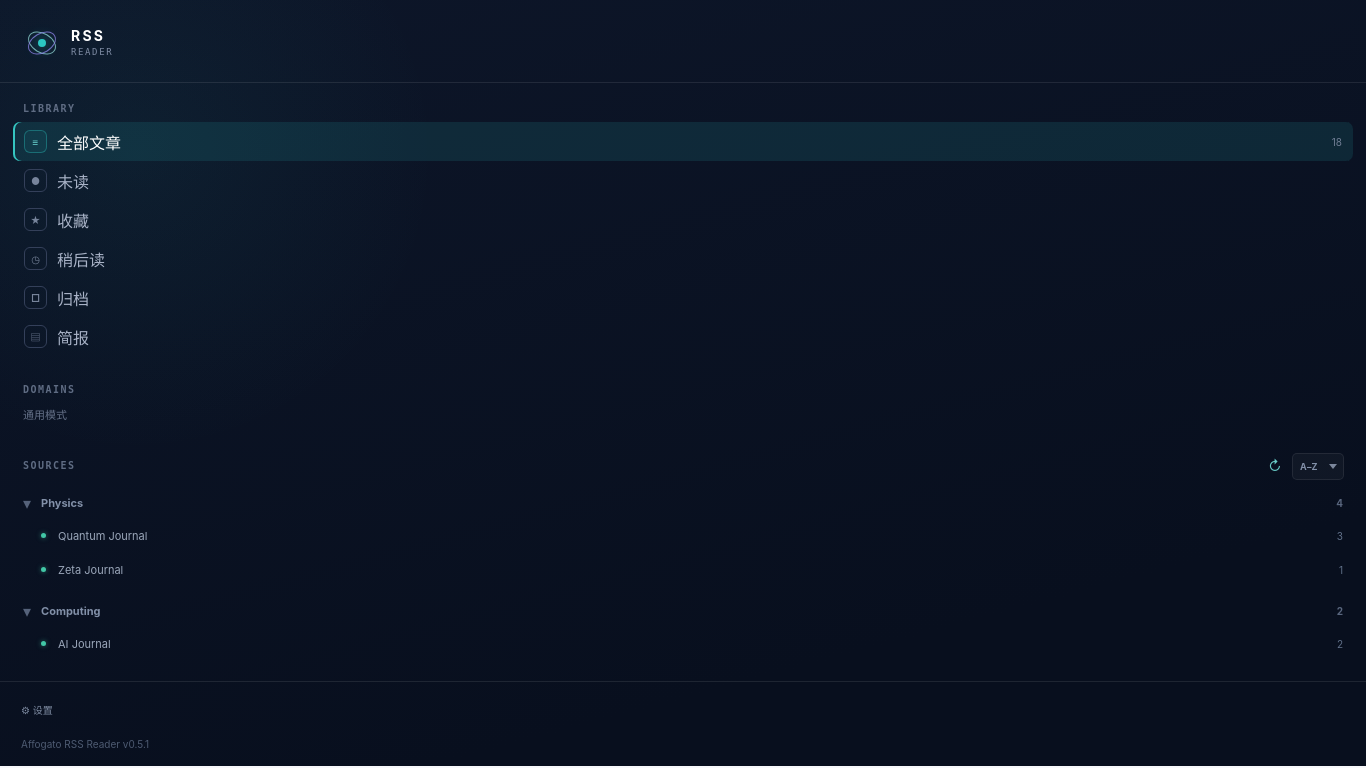
Test: Sidebar source folders › collapses only the folder whose caret is clicked
The width and height of the screenshot is (1366, 768).
Click the button named "收起 Physics" at coordinates (27, 503), box x1=13 y1=487 x2=41 y2=519
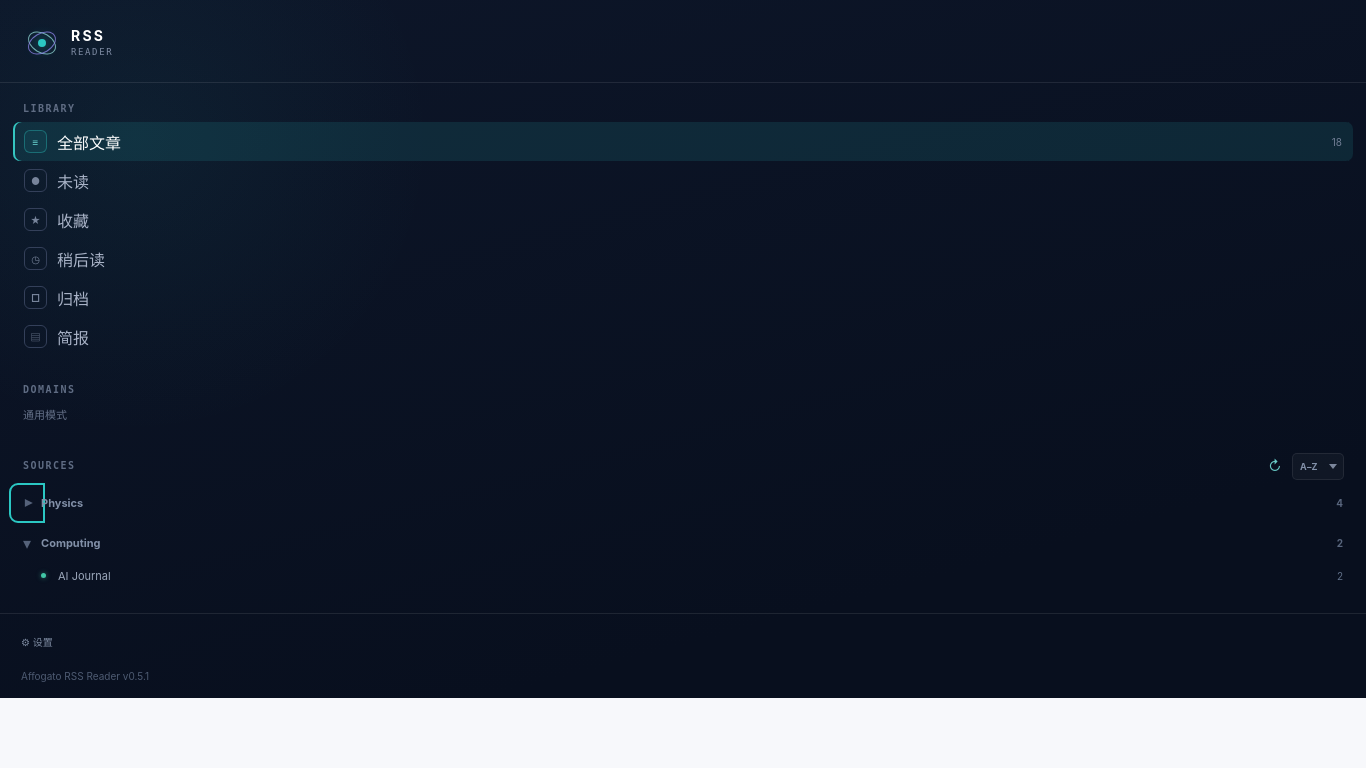
Expected: the text "AI Journal" is shown, x1=13 y1=559 x2=1353 y2=593
Now the button "Quantum Journal" is gone
Click the button named "展开 Physics" at coordinates (27, 503), box x1=13 y1=487 x2=41 y2=519
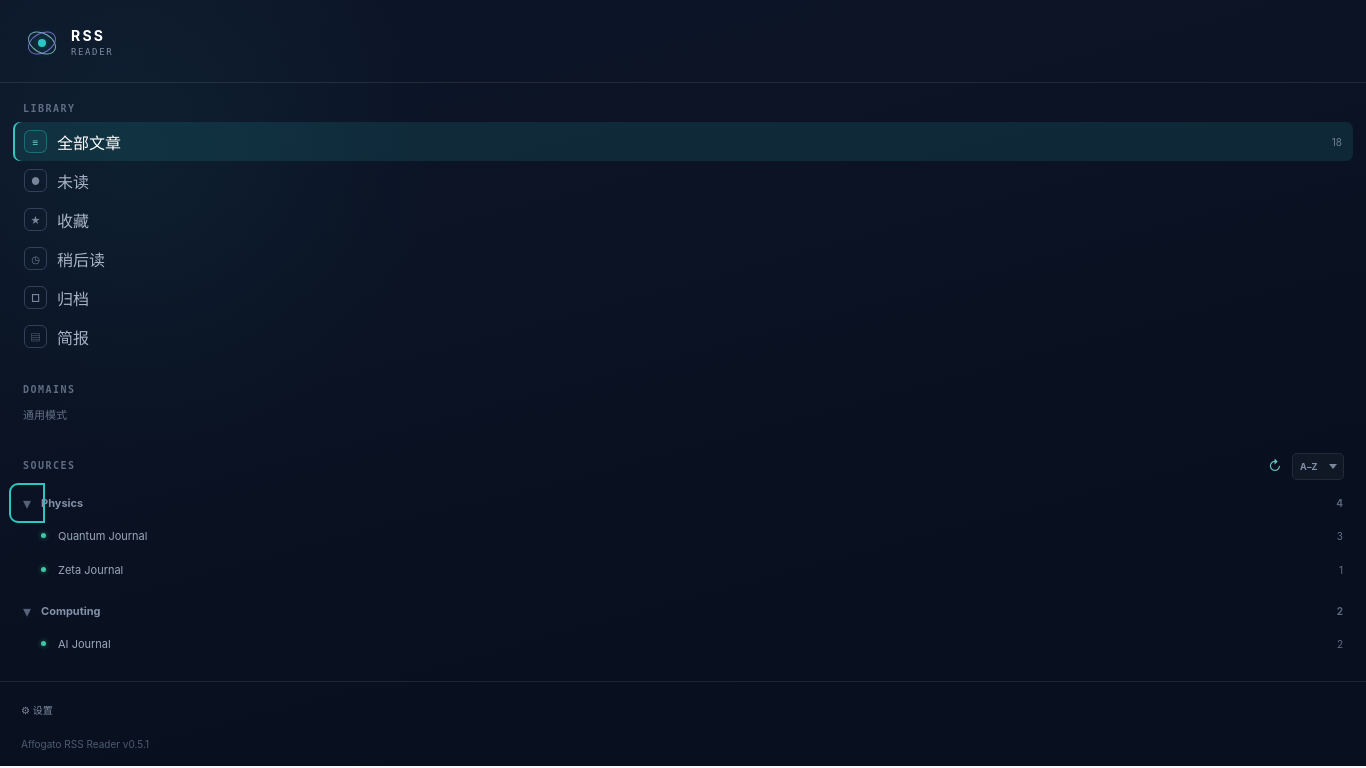
Now the text "Quantum Journal" is shown, box x1=13 y1=519 x2=1353 y2=553
